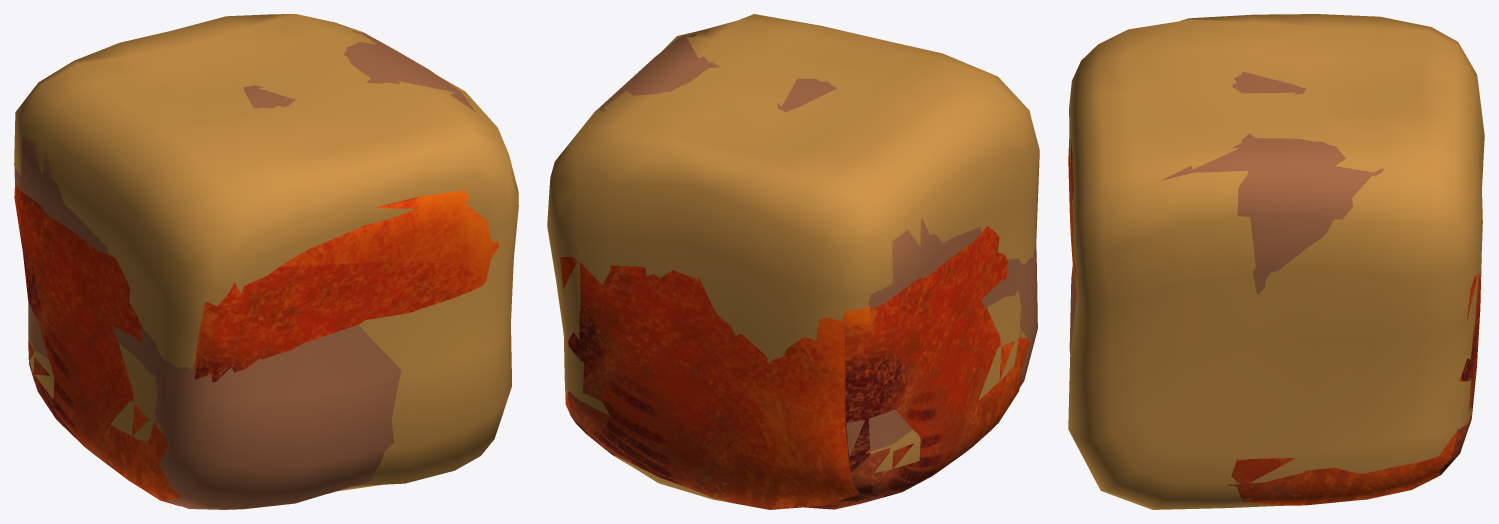
File: block_dirt.fbx
3 views of the same model, side by side, from view 1: azimuth 30°, elevation 25°; view 2: azimuth 150°, elevation 25°; view 3: azimuth 270°, elevation 25° (orthographic). The views are drawn at different scales.
Parts seen in each view (by area): view 1: block_dirt2_LOD0, block_dirt0_LOD0, block_dirt1_LOD0; view 2: block_dirt2_LOD0, block_dirt0_LOD0, block_dirt1_LOD0; view 3: block_dirt2_LOD0, block_dirt1_LOD0, block_dirt0_LOD0.
Part boxes in pixels (x1,y1,x2,y2): block_dirt2_LOD0: (14, 14, 518, 491); block_dirt0_LOD0: (14, 181, 499, 506); block_dirt1_LOD0: (14, 31, 475, 509); block_dirt2_LOD0: (547, 14, 1039, 502); block_dirt0_LOD0: (560, 226, 1030, 509); block_dirt1_LOD0: (598, 33, 1037, 456); block_dirt2_LOD0: (1068, 14, 1484, 509); block_dirt1_LOD0: (1069, 71, 1384, 353); block_dirt0_LOD0: (1068, 139, 1481, 505).
Size of the model in its own units: 200 by 197 by 201.
3 materials, 1 textured.
